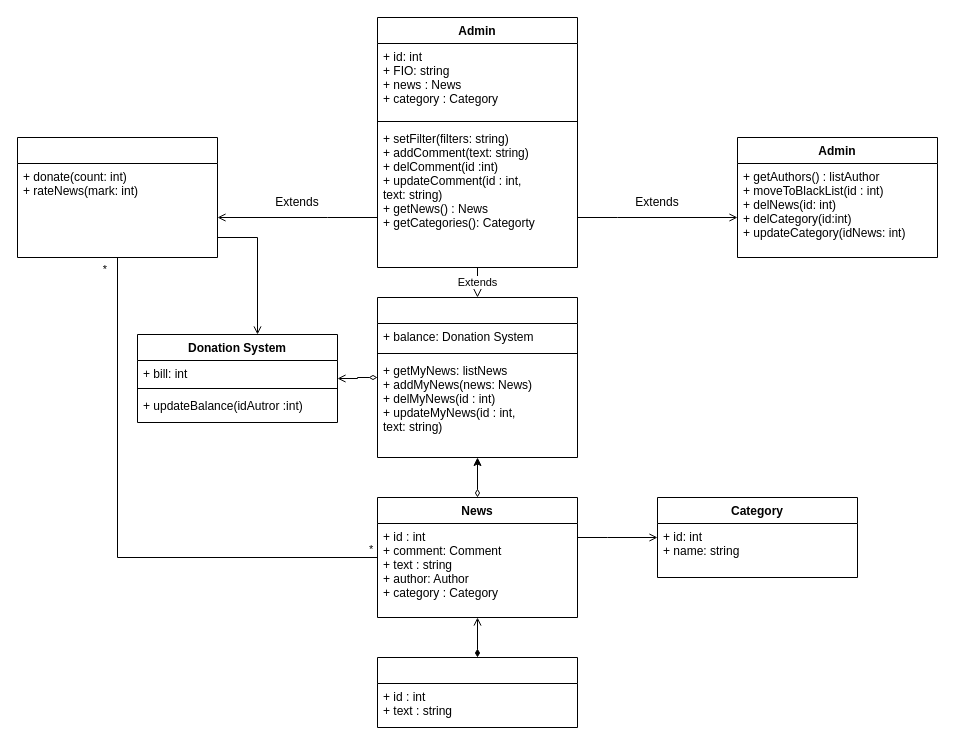
Some shapes in this 955 by 748 pixel diagram are drawn without their labels. Here are the shapes that lost their labels. From the top down, the box of each, then its label:
(16, 136, 218, 258): Reader
(376, 296, 578, 458): Author
(376, 656, 578, 728): Comment
